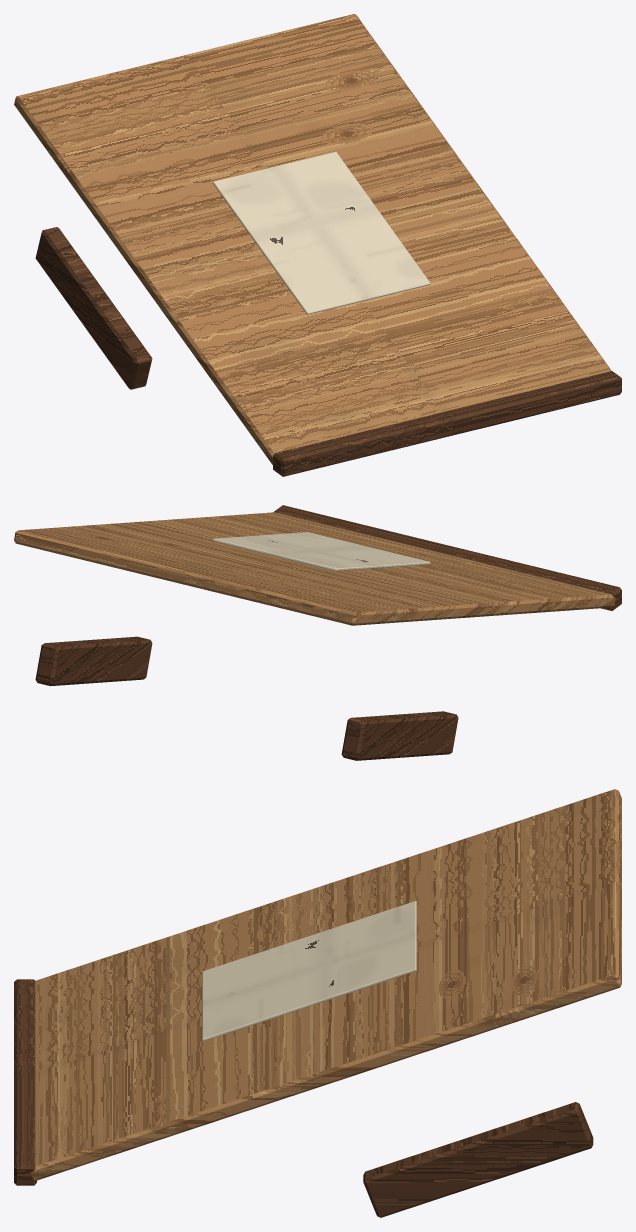
File: drawing_board.glb
The picture shows the model from 3 angles, top to bottom: view 1: azimuth 30°, elevation 25°; view 2: azimuth 150°, elevation 25°; view 3: azimuth 270°, elevation 25°; orthographic projection. The views are drawn at different scales.
Visible parts, largest first — view 1: p; view 2: p; view 3: p.
Part boxes in pixels (left/top/right/bottom): p: left=14, top=14, right=621, bottom=476; p: left=14, top=505, right=621, bottom=760; p: left=14, top=789, right=621, bottom=1217.
Size of the model in its own units: 0.58 by 0.3569 by 0.7922.
Materials: 3 (3 with a texture image).
